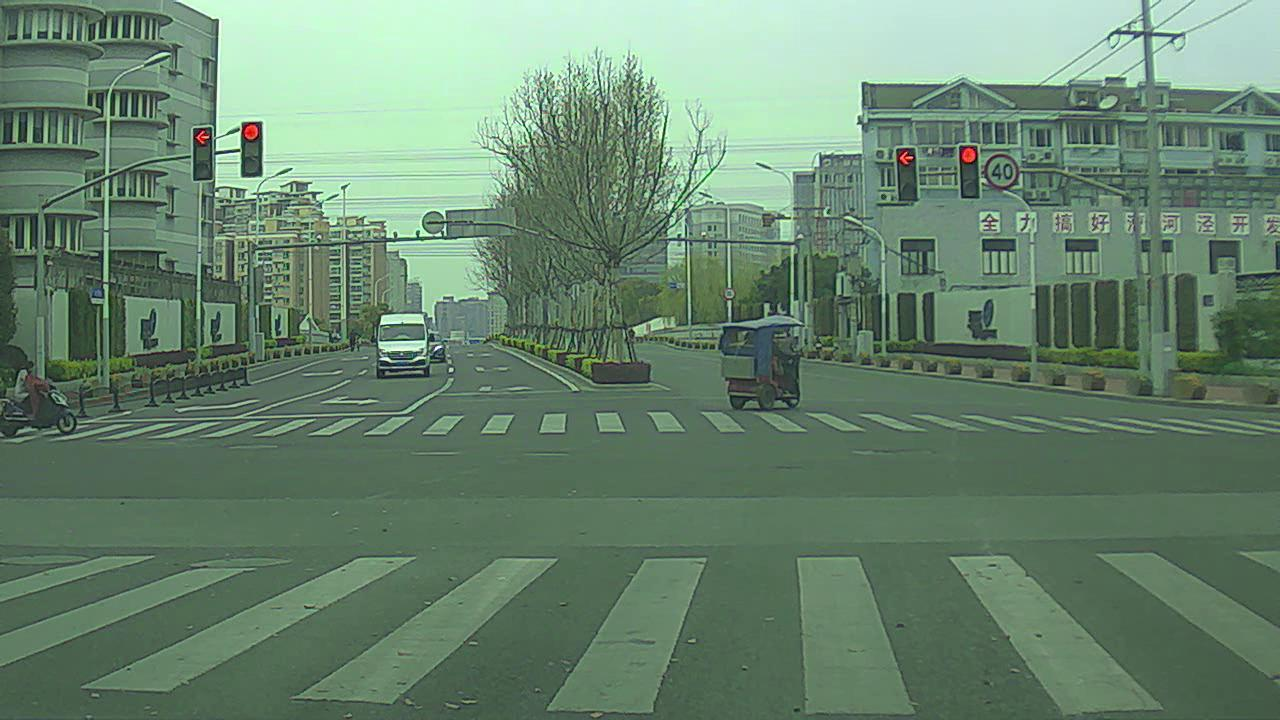traffic_light: (959, 142, 987, 206), (894, 144, 922, 204), (191, 126, 218, 186), (243, 120, 267, 178)
